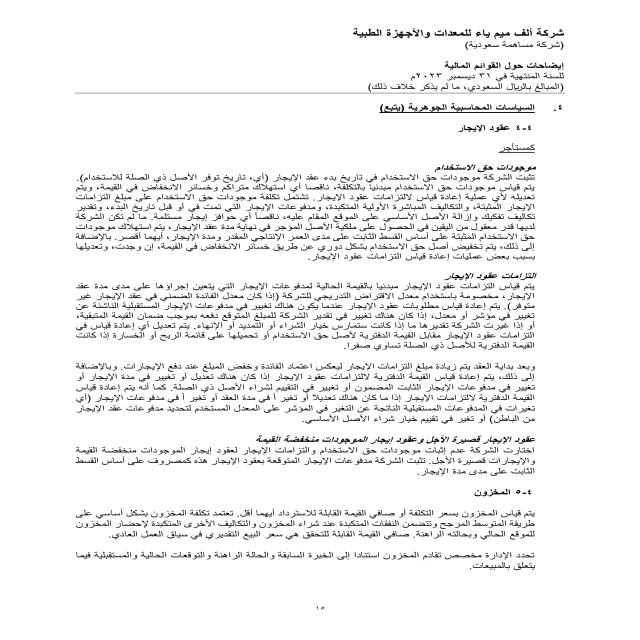notes: (438, 56, 574, 72)
text: (54, 138, 547, 574)
